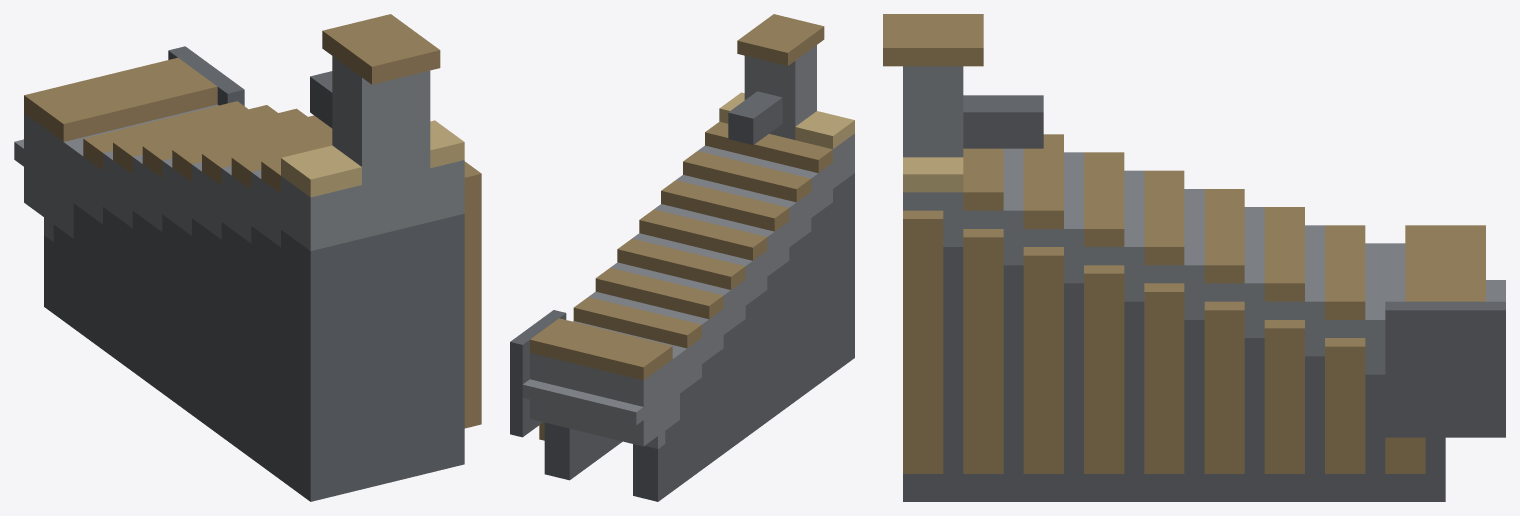
File: bellows_right.glb
3 renders of one model, left to right at view 1: azimuth 30°, elevation 25°; view 2: azimuth 150°, elevation 25°; view 3: azimuth 270°, elevation 25°, orthographic. The views are drawn at different scales.
Bounding box in the file's own units: 10 × 24 × 31.
